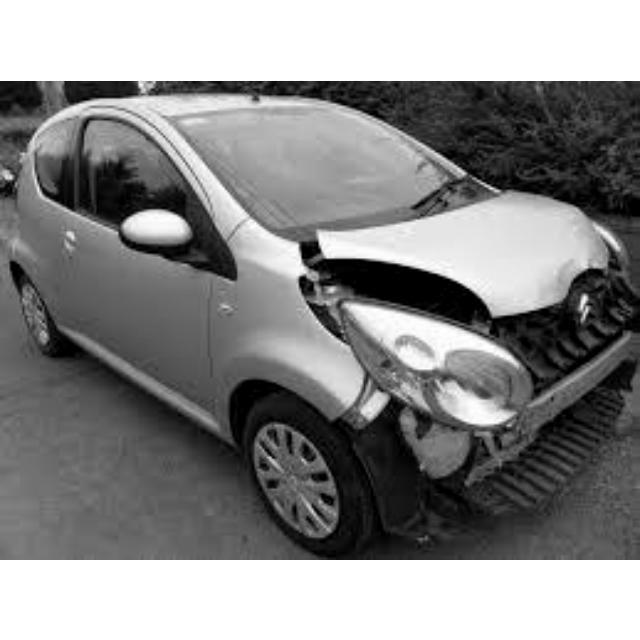Headlight-damage: (305, 270, 502, 408)
bonnet-dent: (345, 179, 611, 300)
